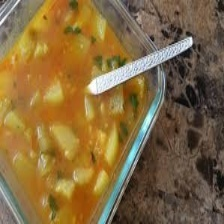sabzi: (0, 0, 156, 224)
